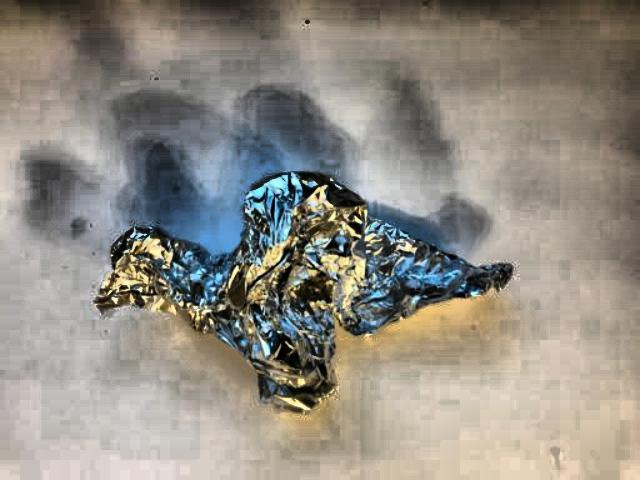Almennt: (71, 164, 523, 431)
